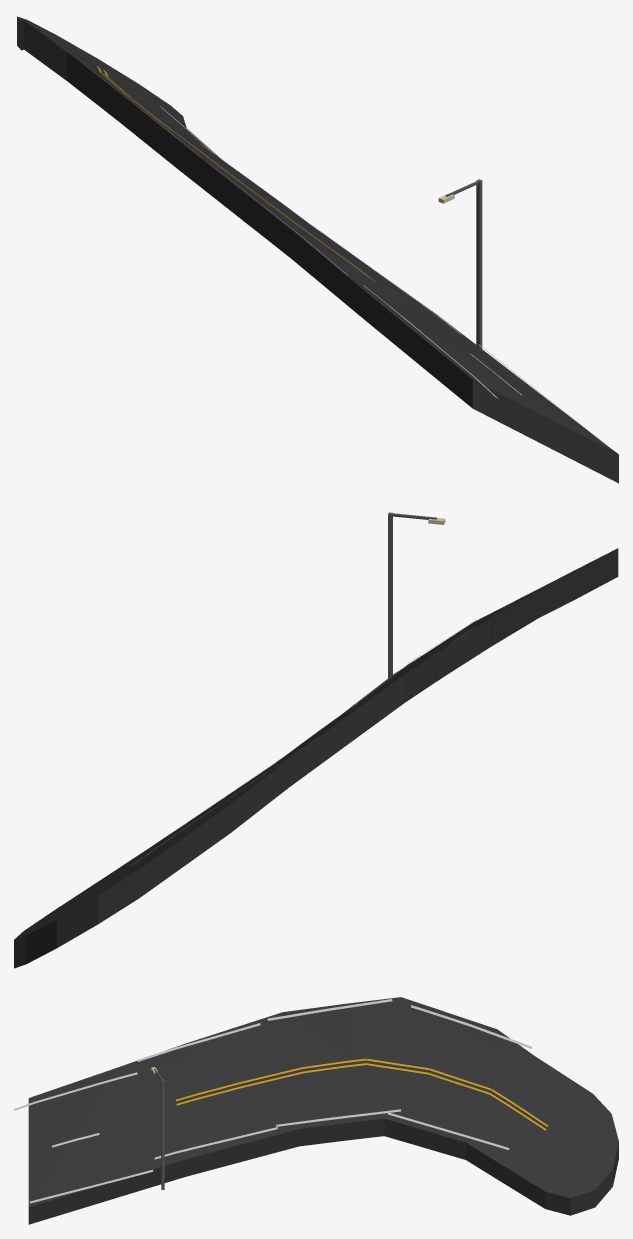
3 views of the same model, one above another, from view 1: azimuth 30°, elevation 25°; view 2: azimuth 150°, elevation 25°; view 3: azimuth 270°, elevation 25° (orthographic). The views are drawn at different scales.
Size of the model in its own units: 10.54 by 10.81 by 37.66.
